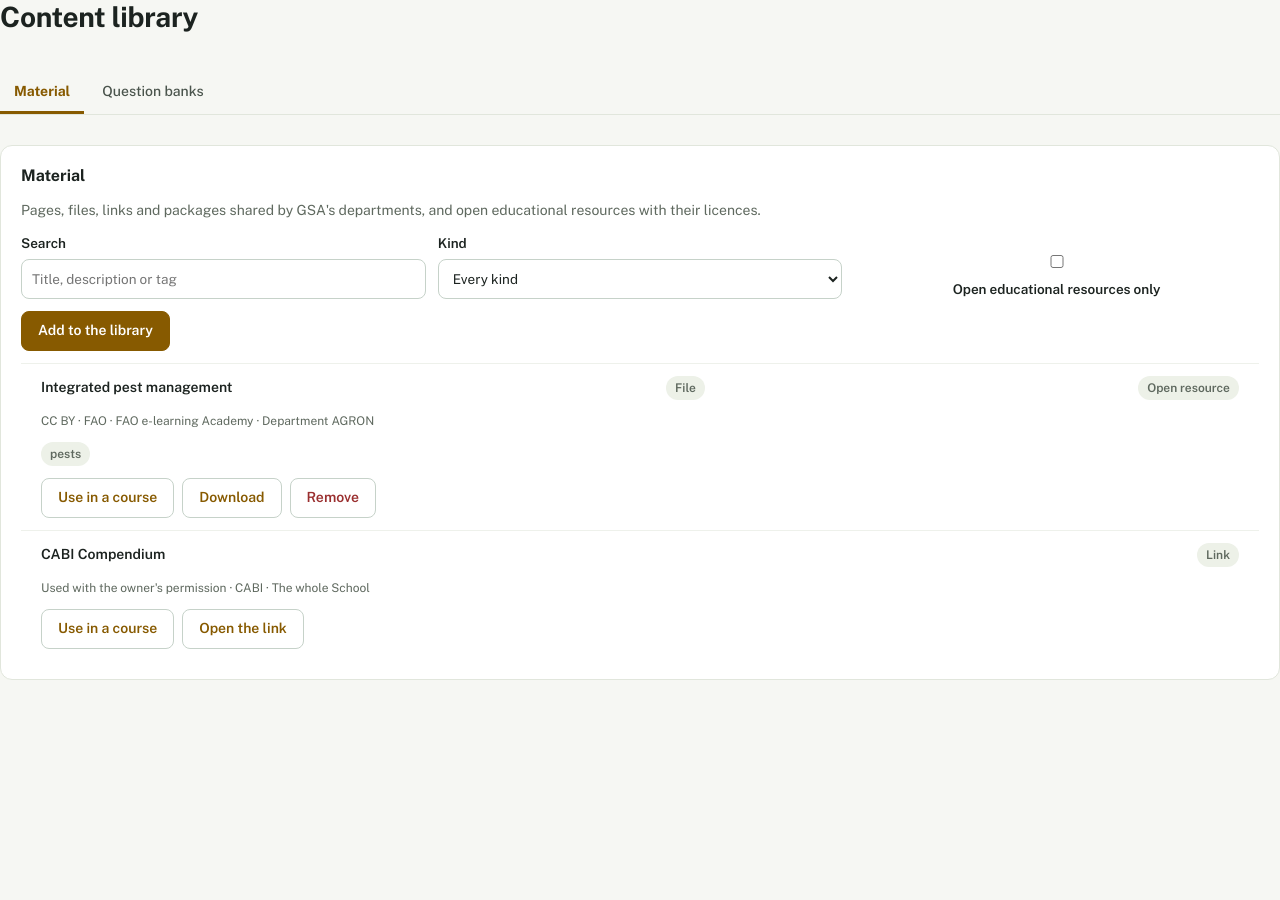
Test case: the content library (item 5.14) › copies an item into a module of a course the person teaches
Click the button "Use in a course" next to "Download" at [108, 498], box [41,478,174,518]
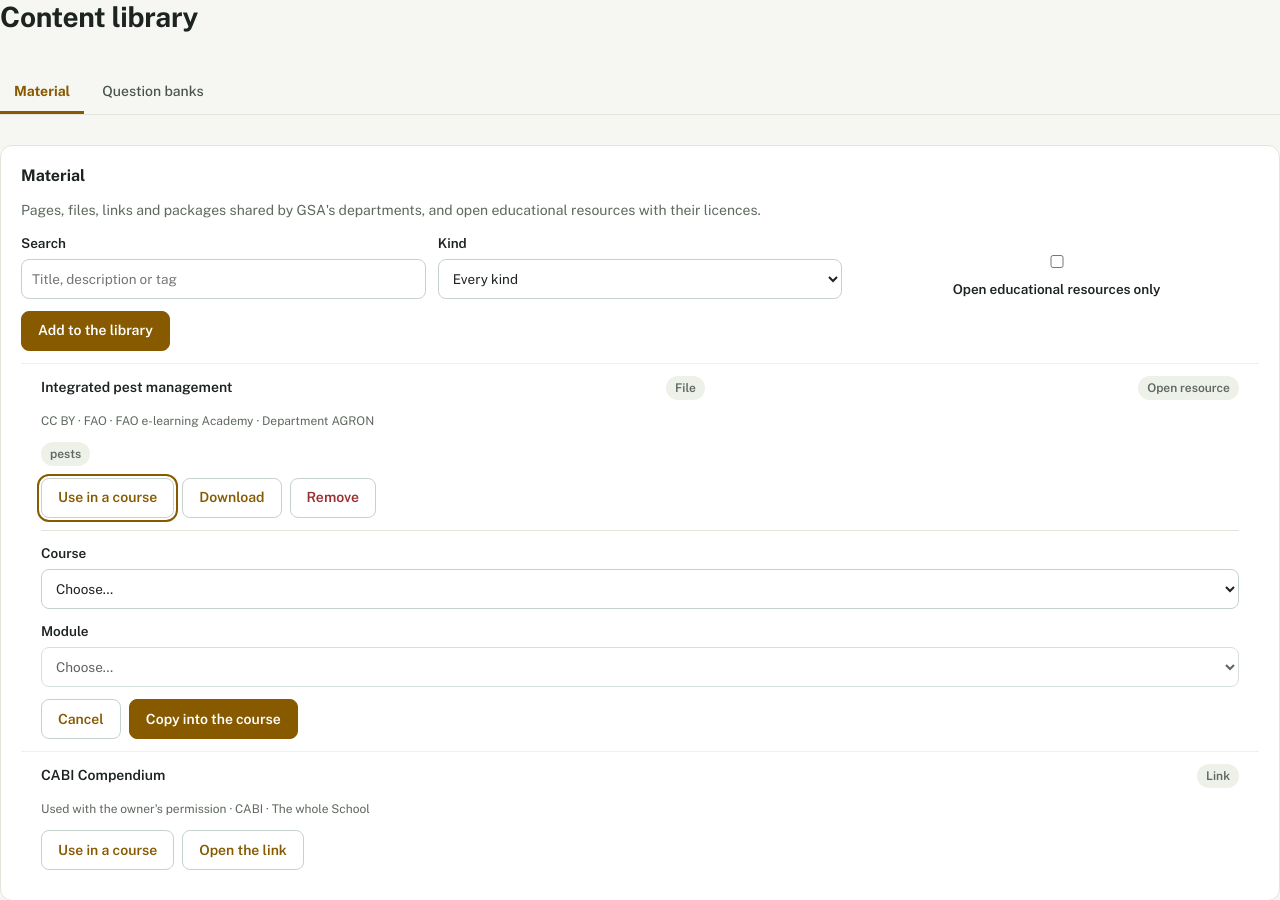
Select "AGR101-2026-27-S1-MRP Introduction to Crop Production" in the dropdown labelled "Course" at [640, 589], box [41,569,1239,609]
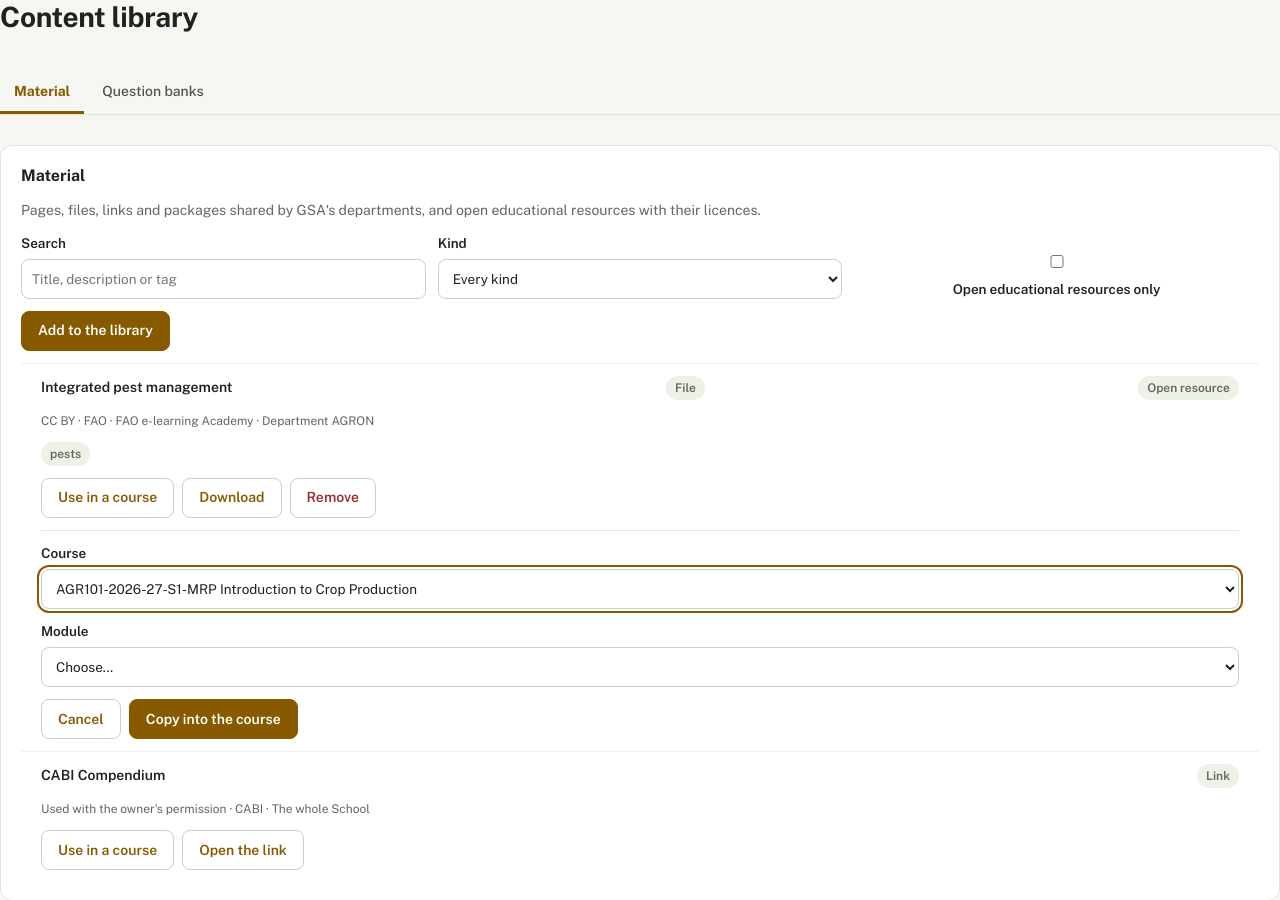
Select "Week 1: Soils" in the dropdown labelled "Module" at [640, 667], box [41,647,1239,687]
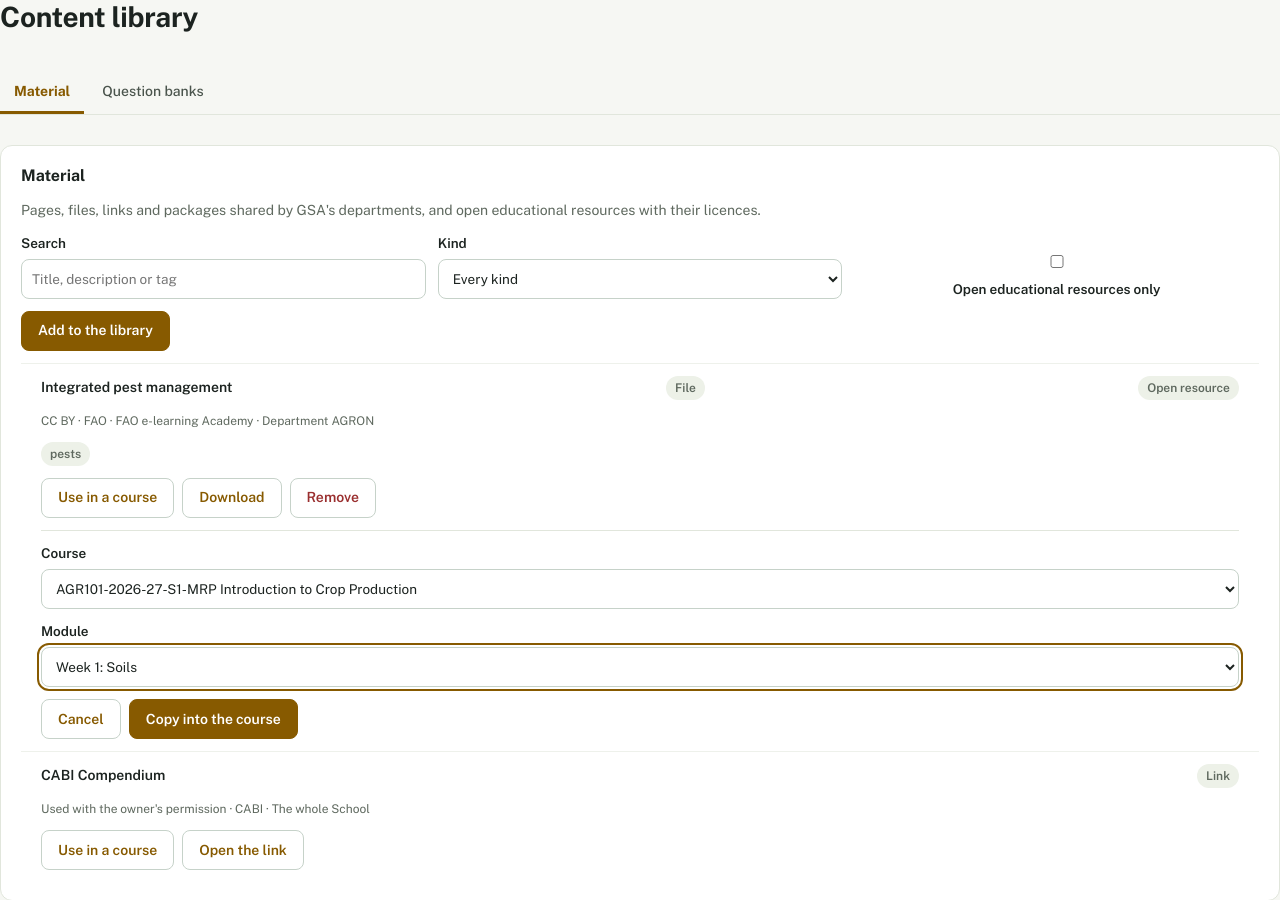
Click the button "Copy into the course" at [213, 719], box [129,699,298,739]
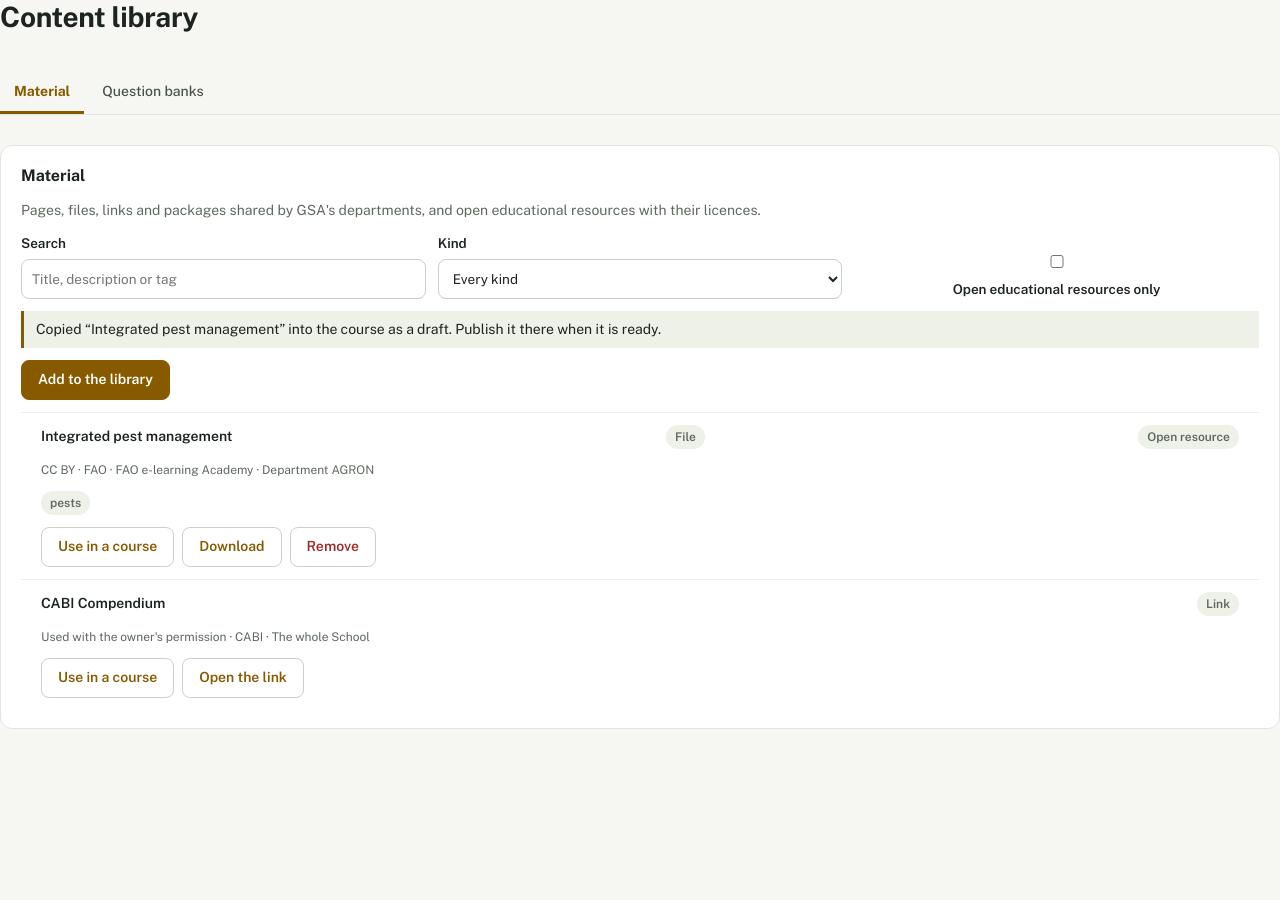
Now the text "Copied “Integrated pest management” into the course as a draft" is shown, box [36,321,661,337]
